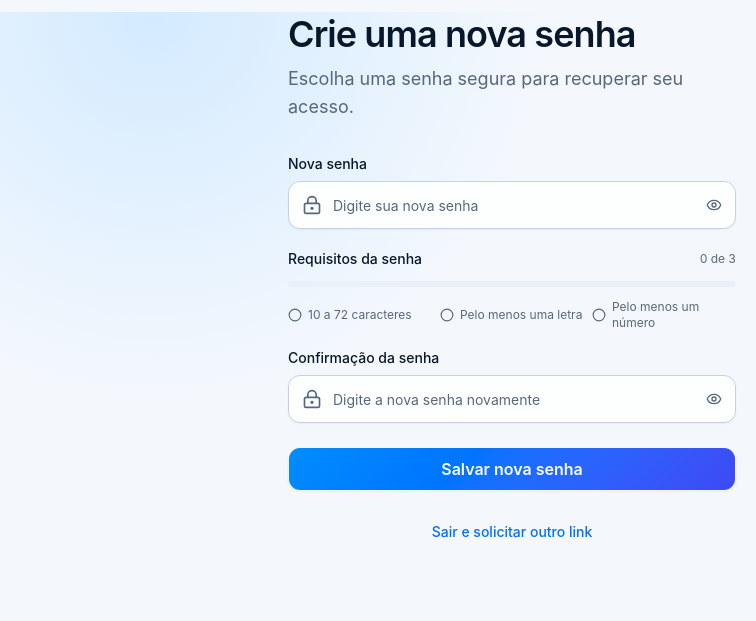
Test: UpdatePasswordForm › shows safe feedback for password_mismatch
Type "nova-senha1" into the password field labelled "Nova senha" at (512, 205), box [288,181,736,229]
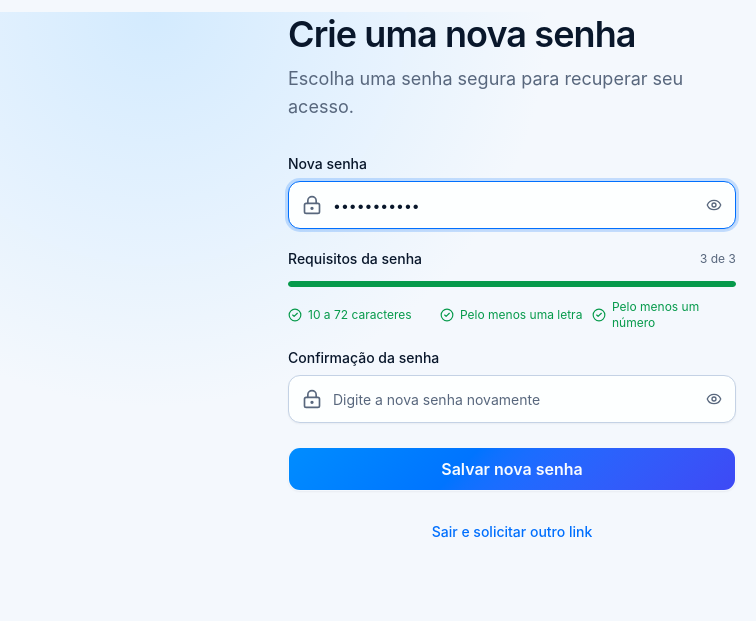
Type "nova-senha1" into the password field labelled "Confirmação da senha" at (512, 399), box [288,375,736,423]
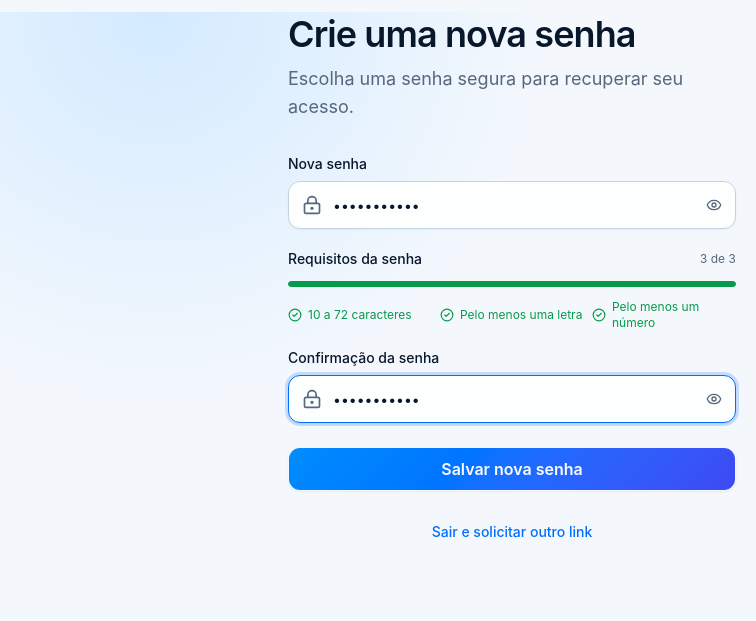
Click the button "Salvar nova senha" at (512, 469), box [288,447,736,491]
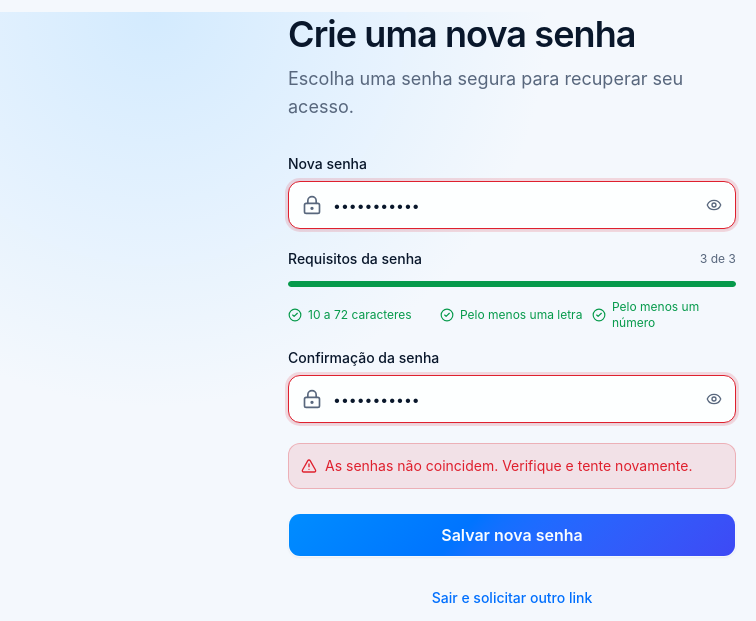
Expected: the message shows "As senhas não coincidem", [325,457,692,474]
